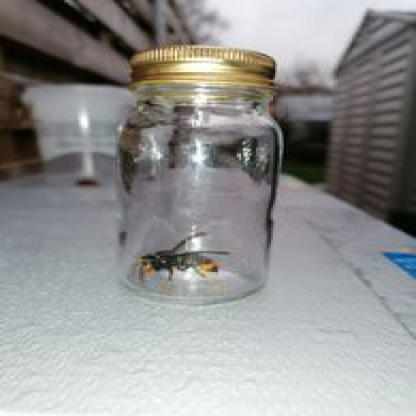Asian Hornet: (130, 237, 233, 281)
